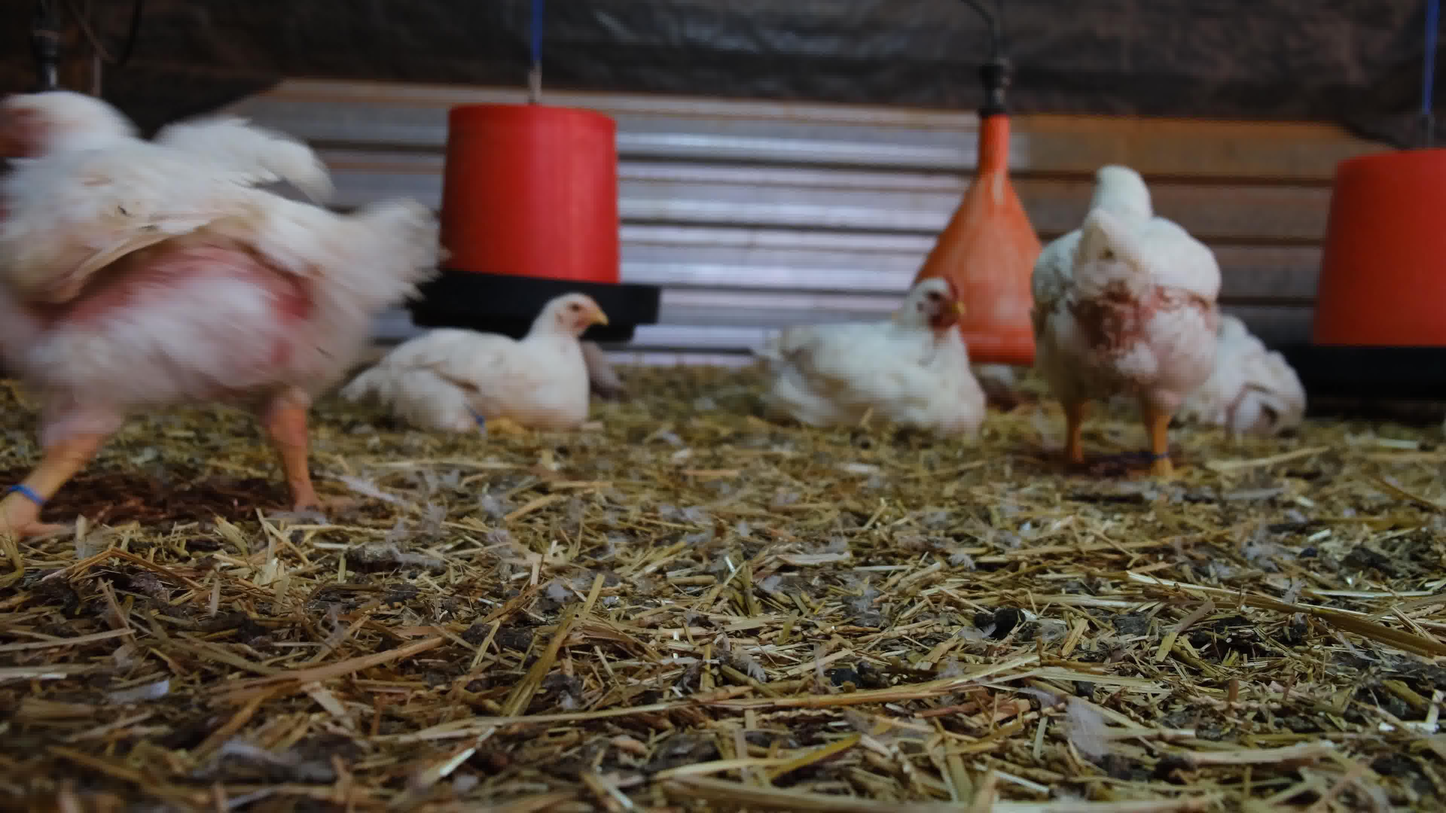AbNormal: (760, 273, 991, 438), (332, 292, 610, 429), (1176, 309, 1309, 437)
Normal: (0, 79, 447, 544), (1030, 166, 1218, 480)
